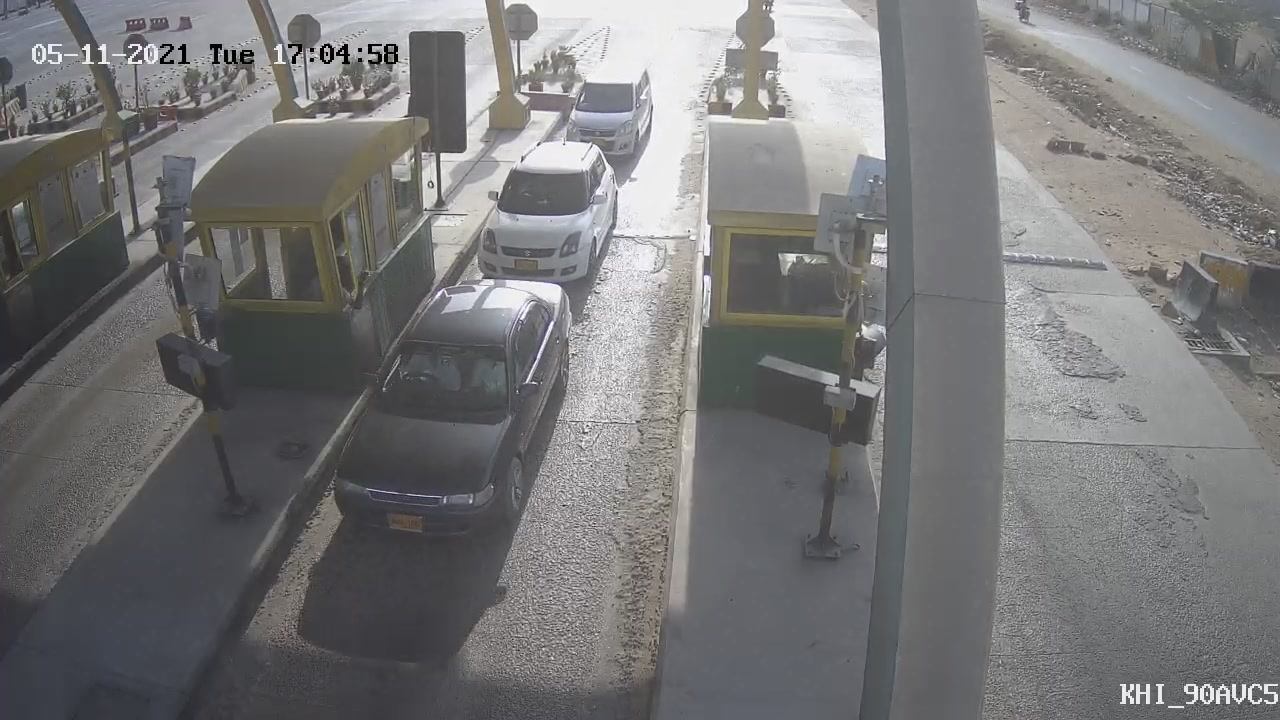F1: (309, 255, 590, 560), (461, 124, 636, 308), (556, 49, 668, 173)
